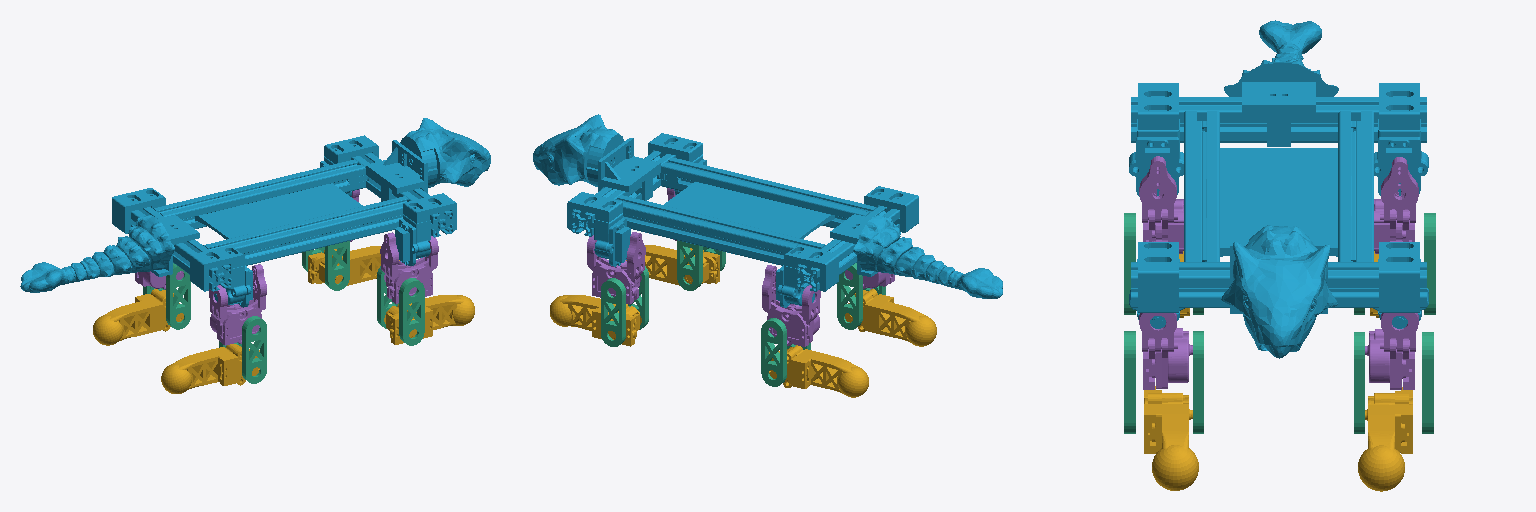
The robot description file, URDF, robot "Final_Revised2URDF.SLDASM":
<?xml version="1.0" encoding="utf-8"?>
<!-- This URDF was automatically created by SolidWorks to URDF Exporter! Originally created by Stephen Brawner (brawner@gmail.com) 
     Commit Version: 1.6.0-4-g7f85cfe  Build Version: 1.6.7995.38578
     For more information, please see http://wiki.ros.org/sw_urdf_exporter -->
<robot
  name="Final_Revised2URDF.SLDASM">
  <link
    name="Base_Link">
    <inertial>
      <origin
        xyz="0.020498 0.00052928 -0.00014662"
        rpy="0 0 0" />
      <mass
        value="1.8552" />
      <inertia
        ixx="0.0017187"
        ixy="-1.2805E-06"
        ixz="3.4583E-05"
        iyy="0.0027084"
        iyz="-2.9915E-06"
        izz="0.003855" />
    </inertial>
    <visual>
      <origin
        xyz="0 0 0"
        rpy="0 0 0" />
      <geometry>
        <mesh
          filename="package://Final_Revised2URDF.SLDASM/meshes/Base_Link.STL" />
      </geometry>
      <material
        name="">
        <color
          rgba="0.188235 0.666667 0.827451 1" />
      </material>
    </visual>
    <collision>
      <origin
        xyz="0 0 0"
        rpy="0 0 0" />
      <geometry>
        <mesh
          filename="package://Final_Revised2URDF.SLDASM/meshes/Base_Link.STL" />
      </geometry>
    </collision>
  </link>
  <link
    name="FR_Hip_Link">
    <inertial>
      <origin
        xyz="-0.00069237 0.005032 -0.035983"
        rpy="0 0 0" />
      <mass
        value="0.11979" />
      <inertia
        ixx="2.3139E-05"
        ixy="2.5741E-07"
        ixz="7.9943E-08"
        iyy="3.747E-05"
        iyz="-9.6831E-08"
        izz="2.7294E-05" />
    </inertial>
    <visual>
      <origin
        xyz="0 0 0"
        rpy="0 0 0" />
      <geometry>
        <mesh
          filename="package://Final_Revised2URDF.SLDASM/meshes/FR_Hip_Link.STL" />
      </geometry>
      <material
        name="">
        <color
          rgba="0.658824 0.474510 0.788235 1" />
      </material>
    </visual>
    <collision>
      <origin
        xyz="0 0 0"
        rpy="0 0 0" />
      <geometry>
        <mesh
          filename="package://Final_Revised2URDF.SLDASM/meshes/FR_Hip_Link.STL" />
      </geometry>
    </collision>
  </link>
  <joint
    name="FR_Hip_Joint"
    type="revolute">
    <origin
      xyz="0.12775 -0.10197 -0.040562"
      rpy="0 0 0" />
    <parent
      link="Base_Link" />
    <child
      link="FR_Hip_Link" />
    <axis
      xyz="1 0 0" />
    <limit
      lower="-1.57079632679"
      upper="1.57079632679"
      effort="3.92266"
      velocity="10.4719755" />
  </joint>
  <link
    name="FR_Thigh_Link">
    <inertial>
      <origin
        xyz="0.02325 -8.3267E-17 -0.03491"
        rpy="0 0 0" />
      <mass
        value="0.043631" />
      <inertia
        ixx="2.6989E-05"
        ixy="3.0837E-22"
        ixz="-1.2618E-20"
        iyy="3.1171E-05"
        iyz="-4.701E-20"
        izz="4.9345E-06" />
    </inertial>
    <visual>
      <origin
        xyz="0 0 0"
        rpy="0 0 0" />
      <geometry>
        <mesh
          filename="package://Final_Revised2URDF.SLDASM/meshes/FR_Thigh_Link.STL" />
      </geometry>
      <material
        name="">
        <color
          rgba="0.258824 0.705882 0.564706 1" />
      </material>
    </visual>
    <collision>
      <origin
        xyz="0 0 0"
        rpy="0 0 0" />
      <geometry>
        <mesh
          filename="package://Final_Revised2URDF.SLDASM/meshes/FR_Thigh_Link.STL" />
      </geometry>
    </collision>
  </link>
  <joint
    name="FR_Thigh_Joint"
    type="revolute">
    <origin
      xyz="-0.033393 0.0050417 -0.041021"
      rpy="0 0 0" />
    <parent
      link="FR_Hip_Link" />
    <child
      link="FR_Thigh_Link" />
    <axis
      xyz="0 1 0" />
    <limit
      lower="-1.57079632679"
      upper="1.57079632679"
      effort="3.92266"
      velocity="10.4719755" />
  </joint>
  <link
    name="FR_Foot_Link">
    <inertial>
      <origin
        xyz="0.094759 0.0054487 -0.014006"
        rpy="0 0 0" />
      <mass
        value="0.1583" />
      <inertia
        ixx="2.832E-05"
        ixy="1.7543E-06"
        ixz="6.718E-06"
        iyy="0.00013791"
        iyz="-7.0466E-08"
        izz="0.00012971" />
    </inertial>
    <visual>
      <origin
        xyz="0 0 0"
        rpy="0 0 0" />
      <geometry>
        <mesh
          filename="package://Final_Revised2URDF.SLDASM/meshes/FR_Foot_Link.STL" />
      </geometry>
      <material
        name="">
        <color
          rgba="0.874510 0.674510 0.184314 1" />
      </material>
    </visual>
    <collision>
      <origin
        xyz="0 0 0"
        rpy="0 0 0" />
      <geometry>
        <mesh
          filename="package://Final_Revised2URDF.SLDASM/meshes/FR_Foot_Link.STL" />
      </geometry>
    </collision>
  </link>
  <joint
    name="FR_Foot_Joint"
    type="revolute">
    <origin
      xyz="-0.02937 0 -0.05232"
      rpy="0 0 0" />
    <parent
      link="FR_Thigh_Link" />
    <child
      link="FR_Foot_Link" />
    <axis
      xyz="0 1 0" />
    <limit
      lower="-1.57079632679"
      upper="1.57079632679"
      effort="3.92266"
      velocity="10.4719755" />
  </joint>
  <link
    name="FL_Hip_Link">
    <inertial>
      <origin
        xyz="-0.00050218 -0.0050319 -0.036286"
        rpy="0 0 0" />
      <mass
        value="0.11979" />
      <inertia
        ixx="2.3138E-05"
        ixy="-2.5726E-07"
        ixz="6.4302E-08"
        iyy="3.747E-05"
        iyz="9.07E-08"
        izz="2.7295E-05" />
    </inertial>
    <visual>
      <origin
        xyz="0 0 0"
        rpy="0 0 0" />
      <geometry>
        <mesh
          filename="package://Final_Revised2URDF.SLDASM/meshes/FL_Hip_Link.STL" />
      </geometry>
      <material
        name="">
        <color
          rgba="0.658824 0.474510 0.788235 1" />
      </material>
    </visual>
    <collision>
      <origin
        xyz="0 0 0"
        rpy="0 0 0" />
      <geometry>
        <mesh
          filename="package://Final_Revised2URDF.SLDASM/meshes/FL_Hip_Link.STL" />
      </geometry>
    </collision>
  </link>
  <joint
    name="FL_Hip_Joint"
    type="revolute">
    <origin
      xyz="0.12775 0.10163 -0.040562"
      rpy="0 0 0" />
    <parent
      link="Base_Link" />
    <child
      link="FL_Hip_Link" />
    <axis
      xyz="1 0 0" />
    <limit
      lower="-1.57079632679"
      upper="1.57079632679"
      effort="3.92266"
      velocity="10.4719755" />
  </joint>
  <link
    name="FL_Thigh_Link">
    <inertial>
      <origin
        xyz="0.023543 1.3878E-17 -0.035123"
        rpy="0 0 0" />
      <mass
        value="0.043631" />
      <inertia
        ixx="2.6989E-05"
        ixy="-1.2945E-21"
        ixz="-1.0037E-20"
        iyy="3.1171E-05"
        iyz="2.5881E-20"
        izz="4.9345E-06" />
    </inertial>
    <visual>
      <origin
        xyz="0 0 0"
        rpy="0 0 0" />
      <geometry>
        <mesh
          filename="package://Final_Revised2URDF.SLDASM/meshes/FL_Thigh_Link.STL" />
      </geometry>
      <material
        name="">
        <color
          rgba="0.258824 0.705882 0.564706 1" />
      </material>
    </visual>
    <collision>
      <origin
        xyz="0 0 0"
        rpy="0 0 0" />
      <geometry>
        <mesh
          filename="package://Final_Revised2URDF.SLDASM/meshes/FL_Thigh_Link.STL" />
      </geometry>
    </collision>
  </link>
  <joint
    name="FL_Thigh_Joint"
    type="revolute">
    <origin
      xyz="-0.033393 -0.0050417 -0.041111"
      rpy="0 0 0" />
    <parent
      link="FL_Hip_Link" />
    <child
      link="FL_Thigh_Link" />
    <axis
      xyz="0 1 0" />
    <limit
      lower="-1.57079632679"
      upper="1.57079632679"
      effort="3.92266"
      velocity="10.4719755" />
  </joint>
  <link
    name="FL_Foot_Link">
    <inertial>
      <origin
        xyz="0.095053 -0.0063159 -0.014309"
        rpy="0 0 0" />
      <mass
        value="0.1583" />
      <inertia
        ixx="2.832E-05"
        ixy="-1.7544E-06"
        ixz="6.718E-06"
        iyy="0.00013791"
        iyz="7.0444E-08"
        izz="0.00012971" />
    </inertial>
    <visual>
      <origin
        xyz="0 0 0"
        rpy="0 0 0" />
      <geometry>
        <mesh
          filename="package://Final_Revised2URDF.SLDASM/meshes/FL_Foot_Link.STL" />
      </geometry>
      <material
        name="">
        <color
          rgba="0.874510 0.674510 0.184314 1" />
      </material>
    </visual>
    <collision>
      <origin
        xyz="0 0 0"
        rpy="0 0 0" />
      <geometry>
        <mesh
          filename="package://Final_Revised2URDF.SLDASM/meshes/FL_Foot_Link.STL" />
      </geometry>
    </collision>
  </link>
  <joint
    name="FL_Foot_Joint"
    type="revolute">
    <origin
      xyz="-0.02937 0 -0.05223"
      rpy="0 0 0" />
    <parent
      link="FL_Thigh_Link" />
    <child
      link="FL_Foot_Link" />
    <axis
      xyz="0 1 0" />
    <limit
      lower="-1.57079632679"
      upper="1.57079632679"
      effort="3.92266"
      velocity="10.4719755" />
  </joint>
  <link
    name="BR_Hip_Link">
    <inertial>
      <origin
        xyz="0.0019566 0.005032 -0.035497"
        rpy="0 0 0" />
      <mass
        value="0.11979" />
      <inertia
        ixx="2.3142E-05"
        ixy="-2.5571E-07"
        ixz="-2.0643E-07"
        iyy="3.747E-05"
        iyz="-9.4833E-08"
        izz="2.729E-05" />
    </inertial>
    <visual>
      <origin
        xyz="0 0 0"
        rpy="0 0 0" />
      <geometry>
        <mesh
          filename="package://Final_Revised2URDF.SLDASM/meshes/BR_Hip_Link.STL" />
      </geometry>
      <material
        name="">
        <color
          rgba="0.658824 0.474510 0.788235 1" />
      </material>
    </visual>
    <collision>
      <origin
        xyz="0 0 0"
        rpy="0 0 0" />
      <geometry>
        <mesh
          filename="package://Final_Revised2URDF.SLDASM/meshes/BR_Hip_Link.STL" />
      </geometry>
    </collision>
  </link>
  <joint
    name="BR_Hip_Joint"
    type="revolute">
    <origin
      xyz="-0.12875 -0.10197 -0.040652"
      rpy="0 0 0" />
    <parent
      link="Base_Link" />
    <child
      link="BR_Hip_Link" />
    <axis
      xyz="1 0 0" />
    <limit
      lower="-1.57079632679"
      upper="1.57079632679"
      effort="3.92266"
      velocity="10.4719755" />
  </joint>
  <link
    name="BR_Thigh_Link">
    <inertial>
      <origin
        xyz="-0.022895 -8.7153E-15 -0.034362"
        rpy="0 0 0" />
      <mass
        value="0.043631" />
      <inertia
        ixx="2.6989E-05"
        ixy="1.1587E-21"
        ixz="-1.1365E-20"
        iyy="3.1171E-05"
        iyz="-2.7732E-20"
        izz="4.9345E-06" />
    </inertial>
    <visual>
      <origin
        xyz="0 0 0"
        rpy="0 0 0" />
      <geometry>
        <mesh
          filename="package://Final_Revised2URDF.SLDASM/meshes/BR_Thigh_Link.STL" />
      </geometry>
      <material
        name="">
        <color
          rgba="0.258824 0.705882 0.564706 1" />
      </material>
    </visual>
    <collision>
      <origin
        xyz="0 0 0"
        rpy="0 0 0" />
      <geometry>
        <mesh
          filename="package://Final_Revised2URDF.SLDASM/meshes/BR_Thigh_Link.STL" />
      </geometry>
    </collision>
  </link>
  <joint
    name="BR_Thigh_Joint"
    type="revolute">
    <origin
      xyz="0.034392 0.0050417 -0.040931"
      rpy="0 0 0" />
    <parent
      link="BR_Hip_Link" />
    <child
      link="BR_Thigh_Link" />
    <axis
      xyz="0 -1 0" />
    <limit
      lower="-1.57079632679"
      upper="1.57079632679"
      effort="3.92266"
      velocity="10.4719755" />
  </joint>
  <link
    name="BR_Foot_Link">
    <inertial>
      <origin
        xyz="-0.094406 0.0063159 -0.013368"
        rpy="0 0 0" />
      <mass
        value="0.1583" />
      <inertia
        ixx="2.832E-05"
        ixy="-1.7544E-06"
        ixz="-6.718E-06"
        iyy="0.00013791"
        iyz="-7.0444E-08"
        izz="0.00012971" />
    </inertial>
    <visual>
      <origin
        xyz="0 0 0"
        rpy="0 0 0" />
      <geometry>
        <mesh
          filename="package://Final_Revised2URDF.SLDASM/meshes/BR_Foot_Link.STL" />
      </geometry>
      <material
        name="">
        <color
          rgba="0.874510 0.674510 0.184314 1" />
      </material>
    </visual>
    <collision>
      <origin
        xyz="0 0 0"
        rpy="0 0 0" />
      <geometry>
        <mesh
          filename="package://Final_Revised2URDF.SLDASM/meshes/BR_Foot_Link.STL" />
      </geometry>
    </collision>
  </link>
  <joint
    name="BR_Foot_Joint"
    type="revolute">
    <origin
      xyz="0.029371 0 -0.05241"
      rpy="0 0 0" />
    <parent
      link="BR_Thigh_Link" />
    <child
      link="BR_Foot_Link" />
    <axis
      xyz="0 -1 0" />
    <limit
      lower="-1.57079632679"
      upper="1.57079632679"
      effort="3.92266"
      velocity="10.4719755" />
  </joint>
  <link
    name="BL_Hip_Link">
    <inertial>
      <origin
        xyz="0.00069237 -0.005032 -0.036073"
        rpy="0 0 0" />
      <mass
        value="0.11979" />
      <inertia
        ixx="2.3139E-05"
        ixy="2.5741E-07"
        ixz="-7.9943E-08"
        iyy="3.747E-05"
        iyz="9.6831E-08"
        izz="2.7294E-05" />
    </inertial>
    <visual>
      <origin
        xyz="0 0 0"
        rpy="0 0 0" />
      <geometry>
        <mesh
          filename="package://Final_Revised2URDF.SLDASM/meshes/BL_Hip_Link.STL" />
      </geometry>
      <material
        name="">
        <color
          rgba="0.658824 0.474510 0.788235 1" />
      </material>
    </visual>
    <collision>
      <origin
        xyz="0 0 0"
        rpy="0 0 0" />
      <geometry>
        <mesh
          filename="package://Final_Revised2URDF.SLDASM/meshes/BL_Hip_Link.STL" />
      </geometry>
    </collision>
  </link>
  <joint
    name="BL_Hip_Joint"
    type="revolute">
    <origin
      xyz="-0.12875 0.10163 -0.040562"
      rpy="0 0 0" />
    <parent
      link="Base_Link" />
    <child
      link="BL_Hip_Link" />
    <axis
      xyz="1 0 0" />
    <limit
      lower="-1.57079632679"
      upper="1.57079632679"
      effort="3.92266"
      velocity="10.4719755" />
  </joint>
  <link
    name="BL_Thigh_Link">
    <inertial>
      <origin
        xyz="-0.02425 3.0184E-16 -0.03491"
        rpy="0 0 0" />
      <mass
        value="0.043631" />
      <inertia
        ixx="2.6989E-05"
        ixy="2.5051E-21"
        ixz="-1.0462E-19"
        iyy="3.1171E-05"
        iyz="2.6347E-20"
        izz="4.9345E-06" />
    </inertial>
    <visual>
      <origin
        xyz="0 0 0"
        rpy="0 0 0" />
      <geometry>
        <mesh
          filename="package://Final_Revised2URDF.SLDASM/meshes/BL_Thigh_Link.STL" />
      </geometry>
      <material
        name="">
        <color
          rgba="0.258824 0.705882 0.564706 1" />
      </material>
    </visual>
    <collision>
      <origin
        xyz="0 0 0"
        rpy="0 0 0" />
      <geometry>
        <mesh
          filename="package://Final_Revised2URDF.SLDASM/meshes/BL_Thigh_Link.STL" />
      </geometry>
    </collision>
  </link>
  <joint
    name="BL_Thigh_Joint"
    type="revolute">
    <origin
      xyz="0.034393 -0.0042 -0.041111"
      rpy="0 0 0" />
    <parent
      link="BL_Hip_Link" />
    <child
      link="BL_Thigh_Link" />
    <axis
      xyz="0 -1 0" />
    <limit
      lower="-1.57079632679"
      upper="1.57079632679"
      effort="3.92266"
      velocity="10.4719755" />
  </joint>
  <link
    name="BL_Foot_Link">
    <inertial>
      <origin
        xyz="-0.09574 -0.0055046 -0.013974"
        rpy="0 0 0" />
      <mass
        value="0.1583" />
      <inertia
        ixx="2.832E-05"
        ixy="1.7543E-06"
        ixz="-6.718E-06"
        iyy="0.00013791"
        iyz="7.0466E-08"
        izz="0.00012971" />
    </inertial>
    <visual>
      <origin
        xyz="0 0 0"
        rpy="0 0 0" />
      <geometry>
        <mesh
          filename="package://Final_Revised2URDF.SLDASM/meshes/BL_Foot_Link.STL" />
      </geometry>
      <material
        name="">
        <color
          rgba="0.874510 0.674510 0.184314 1" />
      </material>
    </visual>
    <collision>
      <origin
        xyz="0 0 0"
        rpy="0 0 0" />
      <geometry>
        <mesh
          filename="package://Final_Revised2URDF.SLDASM/meshes/BL_Foot_Link.STL" />
      </geometry>
    </collision>
  </link>
  <joint
    name="BL_Foot_Joint"
    type="revolute">
    <origin
      xyz="0.02937 0 -0.05232"
      rpy="0 0 0" />
    <parent
      link="BL_Thigh_Link" />
    <child
      link="BL_Foot_Link" />
    <axis
      xyz="0 -1 0" />
    <limit
      lower="-1.57079632679"
      upper="1.57079632679"
      effort="3.92266"
      velocity="10.4719755" />
  </joint>
</robot>

--- Render facts (derived) ---
Views: 3 orthographic renders of the robot side by side, from view 1: azimuth 30°, elevation 25°; view 2: azimuth 150°, elevation 25°; view 3: azimuth 270°, elevation 25°.
Robot: Final_Revised2URDF.SLDASM — 13 links, 12 joints (12 revolute); root link Base_Link; default pose: every joint at zero.
Visible links, largest first — view 1: Base_Link, BR_Foot_Link, BL_Foot_Link, BR_Hip_Link, FR_Foot_Link, FR_Hip_Link, FR_Thigh_Link, FL_Foot_Link, BR_Thigh_Link, BL_Thigh_Link, FL_Thigh_Link; view 2: Base_Link, BL_Foot_Link, BR_Foot_Link, BL_Hip_Link, FL_Foot_Link, FL_Hip_Link, FL_Thigh_Link, FR_Foot_Link, BL_Thigh_Link, BR_Thigh_Link, FR_Thigh_Link; view 3: Base_Link, FR_Foot_Link, FL_Foot_Link, FL_Hip_Link, FR_Hip_Link, BR_Hip_Link, BL_Hip_Link, FR_Thigh_Link, FL_Thigh_Link, BL_Thigh_Link, BR_Thigh_Link.
Boxes of the visible links, x1,y1,x2,y2 form: Base_Link: [20, 118, 490, 307]; BR_Foot_Link: [161, 344, 259, 393]; BL_Foot_Link: [93, 289, 183, 345]; BR_Hip_Link: [209, 264, 266, 345]; FR_Foot_Link: [384, 295, 474, 344]; FR_Hip_Link: [380, 232, 438, 303]; FR_Thigh_Link: [377, 266, 424, 345]; FL_Foot_Link: [308, 246, 399, 285]; BR_Thigh_Link: [219, 316, 266, 383]; BL_Thigh_Link: [143, 263, 190, 329]; FL_Thigh_Link: [302, 241, 349, 290]; Base_Link: [533, 114, 1002, 307]; BL_Foot_Link: [769, 345, 868, 397]; BR_Foot_Link: [845, 289, 936, 346]; BL_Hip_Link: [762, 265, 820, 346]; FL_Foot_Link: [550, 295, 641, 346]; FL_Hip_Link: [587, 232, 645, 304]; FL_Thigh_Link: [601, 266, 648, 346]; FR_Foot_Link: [626, 245, 719, 285]; BL_Thigh_Link: [761, 318, 810, 386]; BR_Thigh_Link: [837, 263, 885, 329]; FR_Thigh_Link: [677, 240, 725, 290]; Base_Link: [1129, 20, 1428, 358]; FR_Foot_Link: [1144, 386, 1198, 490]; FL_Foot_Link: [1358, 387, 1412, 491]; FL_Hip_Link: [1365, 313, 1418, 389]; FR_Hip_Link: [1139, 313, 1192, 389]; BR_Hip_Link: [1139, 156, 1183, 253]; BL_Hip_Link: [1374, 157, 1418, 253]; FR_Thigh_Link: [1124, 331, 1203, 433]; FL_Thigh_Link: [1354, 332, 1433, 433]; BL_Thigh_Link: [1354, 213, 1435, 314]; BR_Thigh_Link: [1124, 213, 1203, 314].
Size in the robot's own frame: 0.6922 by 0.2631 by 0.2406 metres.
Meshes: 13 distinct files referenced, 13 mesh visuals loaded (13 binary STL).
